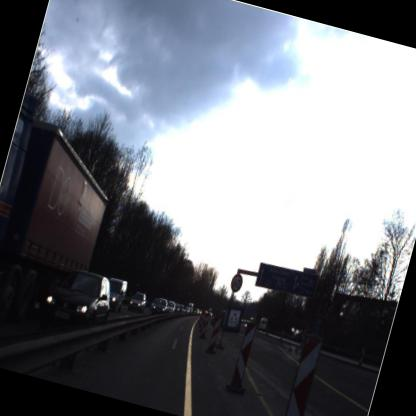prohibitory: (227, 272, 246, 296)
